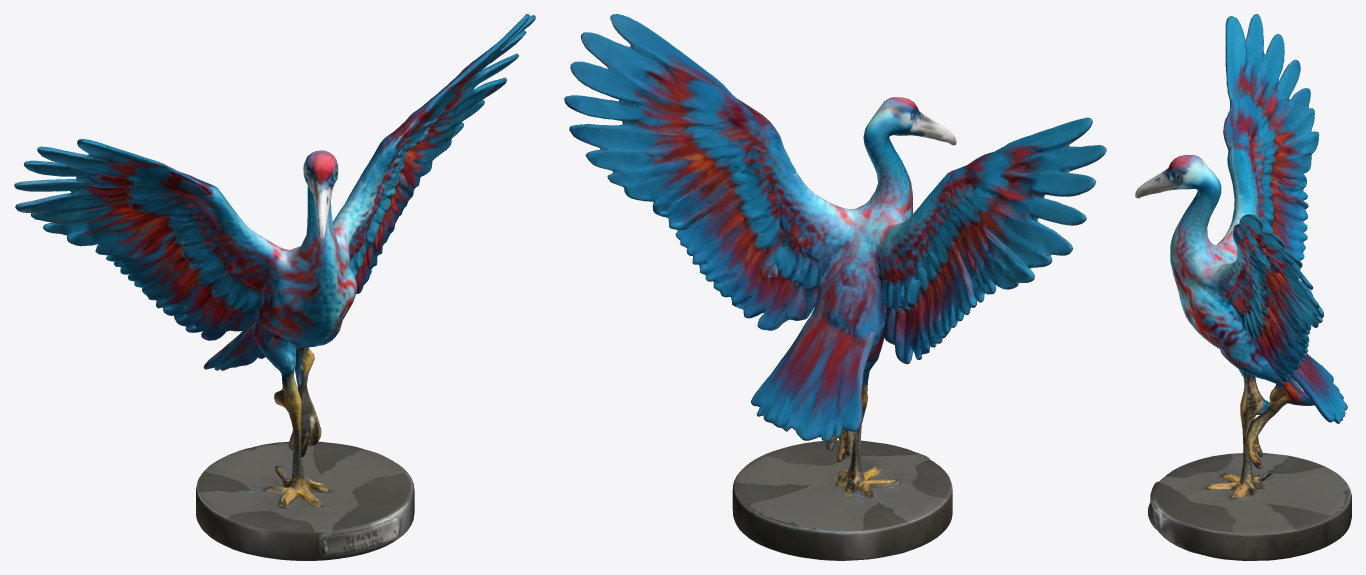
File: shanhai-bifang.glb
The picture shows the model from 3 angles, left to right: view 1: azimuth 30°, elevation 25°; view 2: azimuth 150°, elevation 25°; view 3: azimuth 270°, elevation 25°; orthographic projection. The views are drawn at different scales.
Parts seen in each view (by area): view 1: geometry_0; view 2: geometry_0; view 3: geometry_0.
Part boxes in pixels (x1,y1,x2,y2): geometry_0: [14, 14, 535, 560]; geometry_0: [564, 14, 1106, 560]; geometry_0: [1135, 14, 1351, 560].
Size of the model in its own units: 0.4499 by 0.375 by 0.1826.
1 material, 1 textured.
